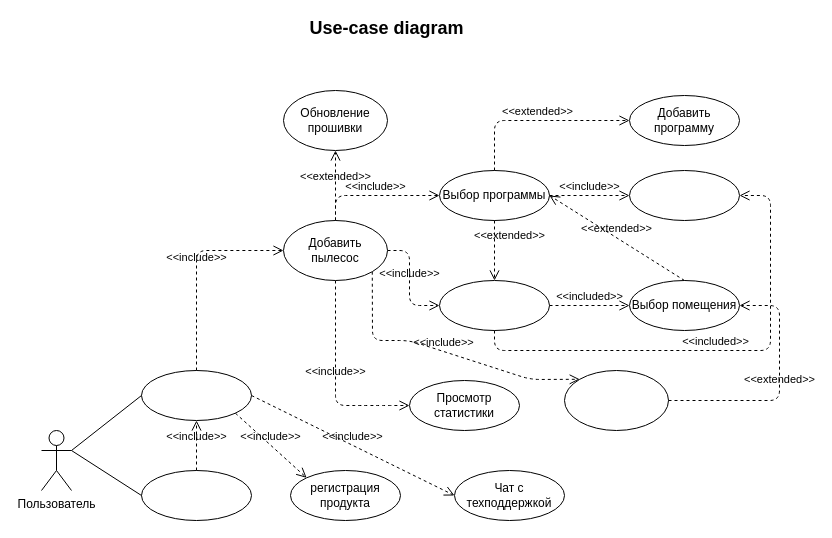
Some shapes in this 832 by 538 pixel diagram are drawn without their labels. The centre of each missing label's shape, as x and y in pixels:
"Вход в аккаунт" goes at [196,395].
"Добавить помещение" goes at [616,400].
"Запуск" goes at [684,195].
"Настройка расписания" goes at [494,305].
"Регистрация аккаунта" goes at [196,495].
